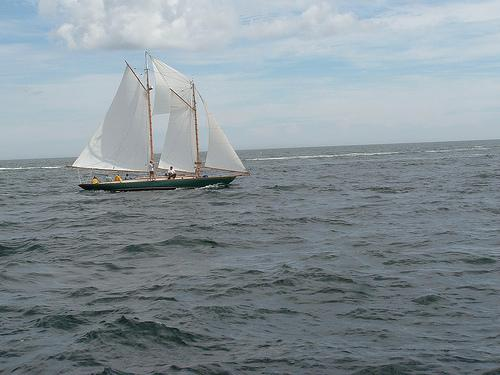Ship: (66, 51, 247, 195)
